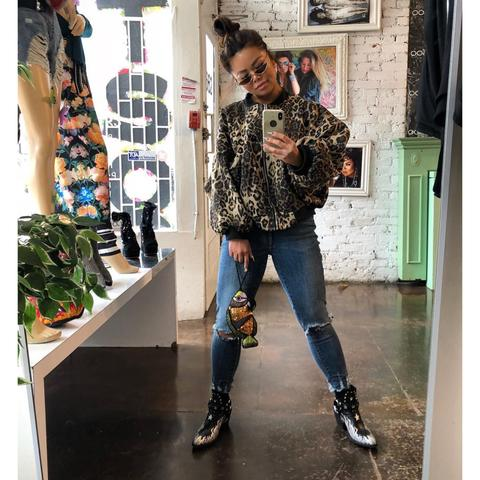jeans: (208, 214, 355, 392)
sunglasses: (232, 66, 274, 82)
